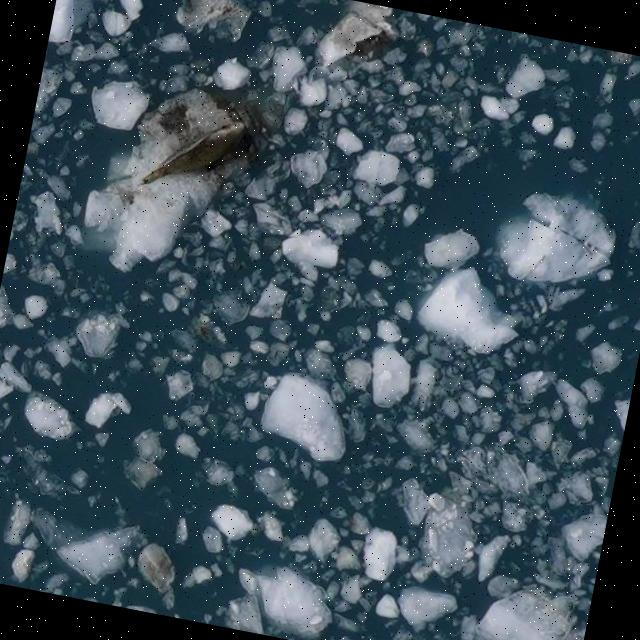seal: (136, 108, 257, 208)
